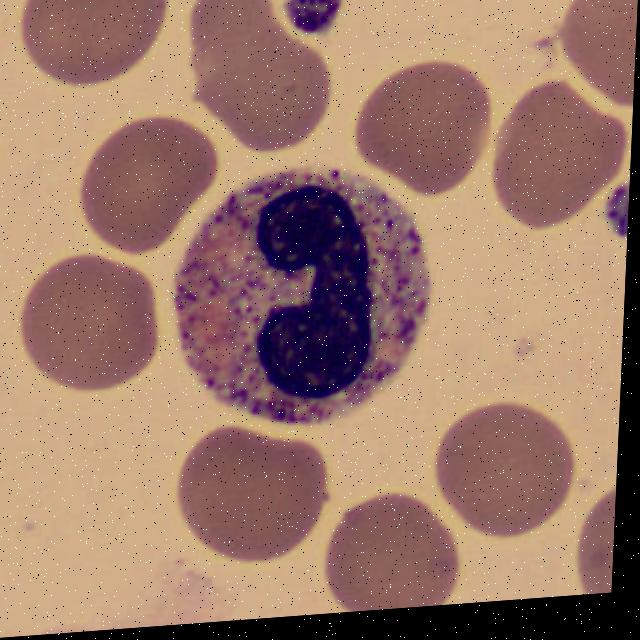neutrophil: (162, 156, 440, 437)
platelets: (285, 0, 342, 38), (607, 175, 630, 245)
rbc: (168, 416, 334, 562), (183, 0, 335, 156), (78, 103, 225, 254), (488, 85, 631, 235), (23, 244, 159, 391), (356, 64, 492, 191), (319, 498, 466, 614), (438, 401, 569, 528), (20, 0, 170, 84), (560, 0, 640, 104), (570, 485, 616, 596)
